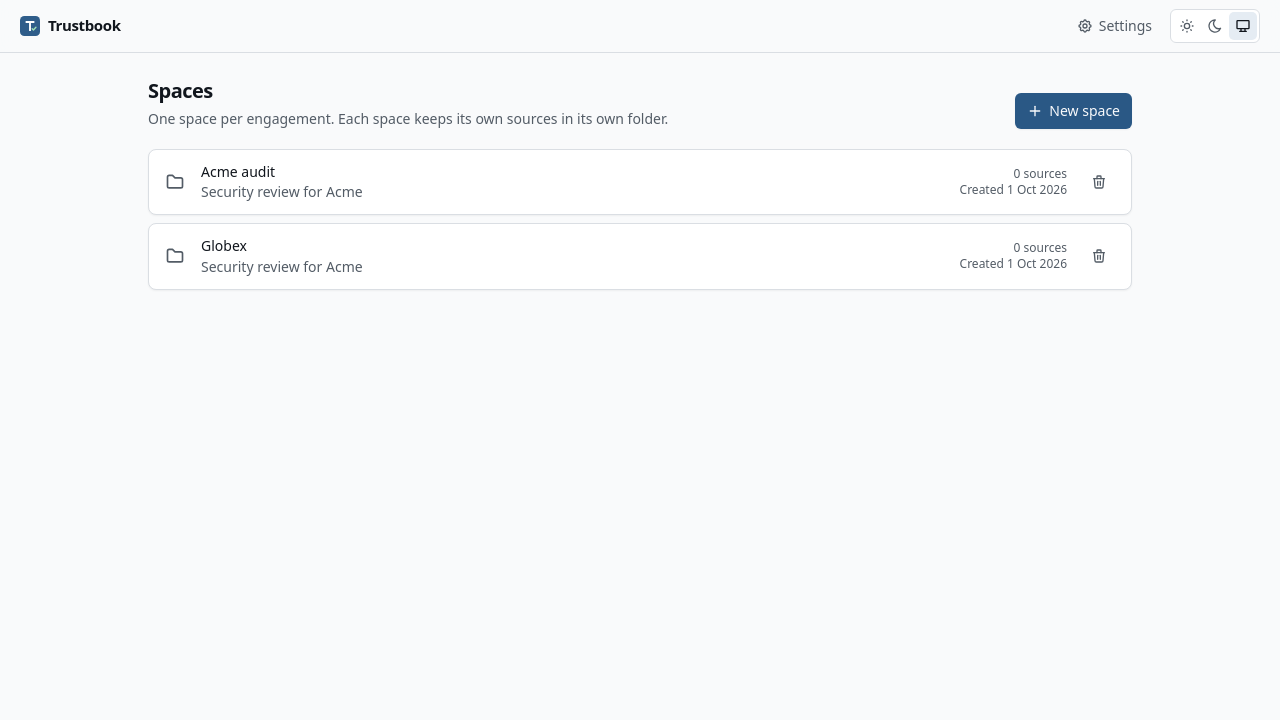
Test: spaces list › asks for confirmation, shows the folder, and only deletes on confirm
Click the button named "Delete Acme audit" at (1099, 182), box x1=1083 y1=166 x2=1115 y2=198
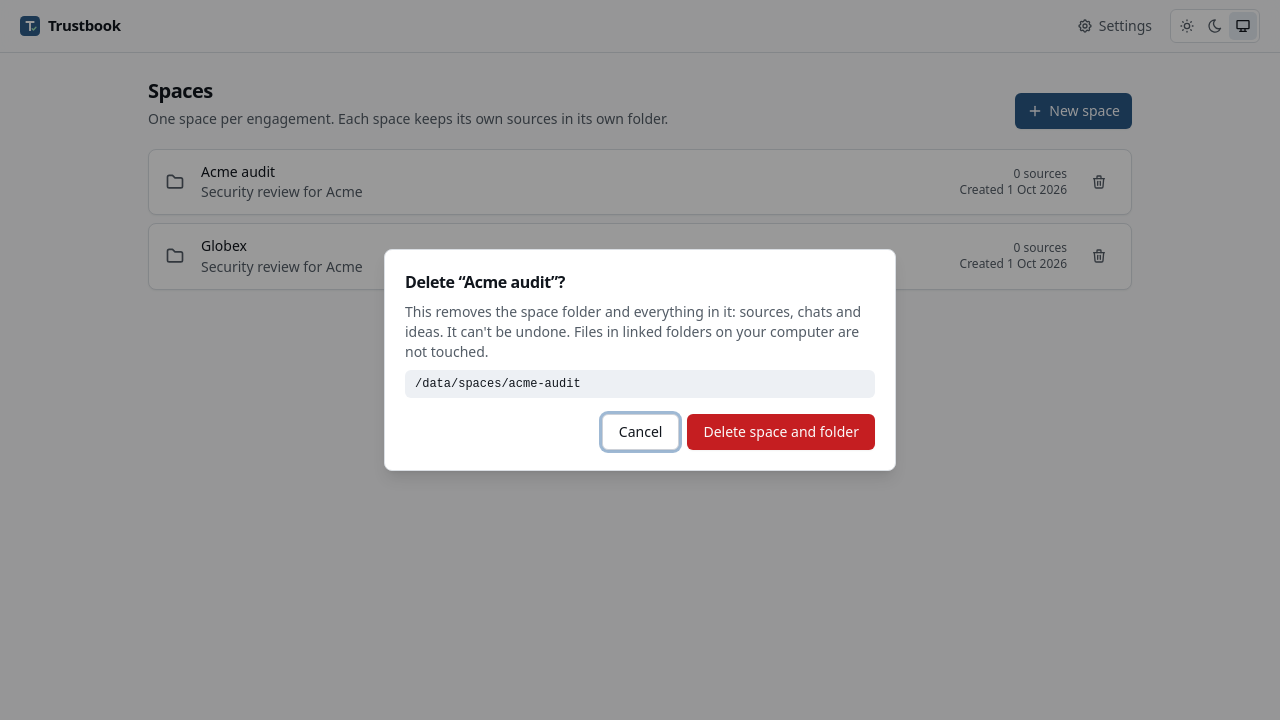
Result: the heading "Delete “Acme audit”?" is shown at x1=405 y1=271 x2=565 y2=293
Result: the text "removes the space folder and everything in it" is shown at x1=405 y1=302 x2=861 y2=361
Result: the text "/data/spaces/acme-audit" is shown at x1=405 y1=370 x2=875 y2=398
Click the button "Cancel" at (641, 432), box x1=602 y1=414 x2=679 y2=450
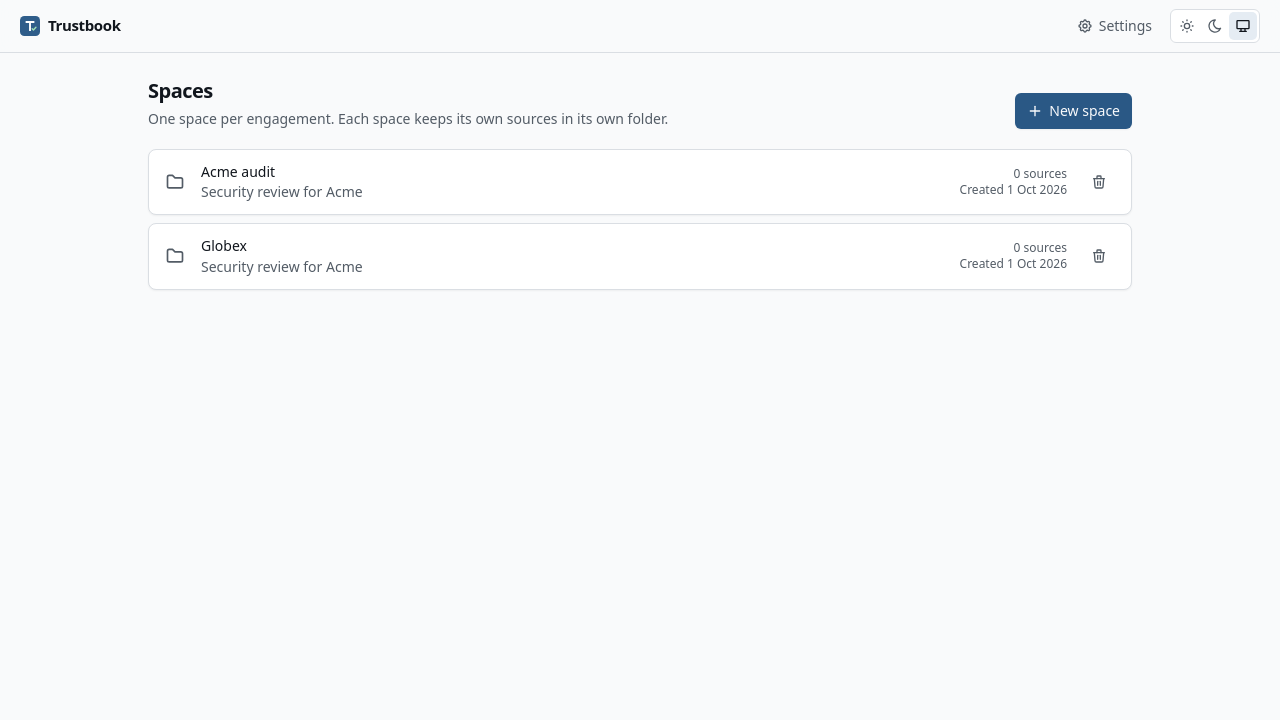
Result: the dialog is gone
Click the button named "Delete Acme audit" at (1099, 182), box x1=1083 y1=166 x2=1115 y2=198
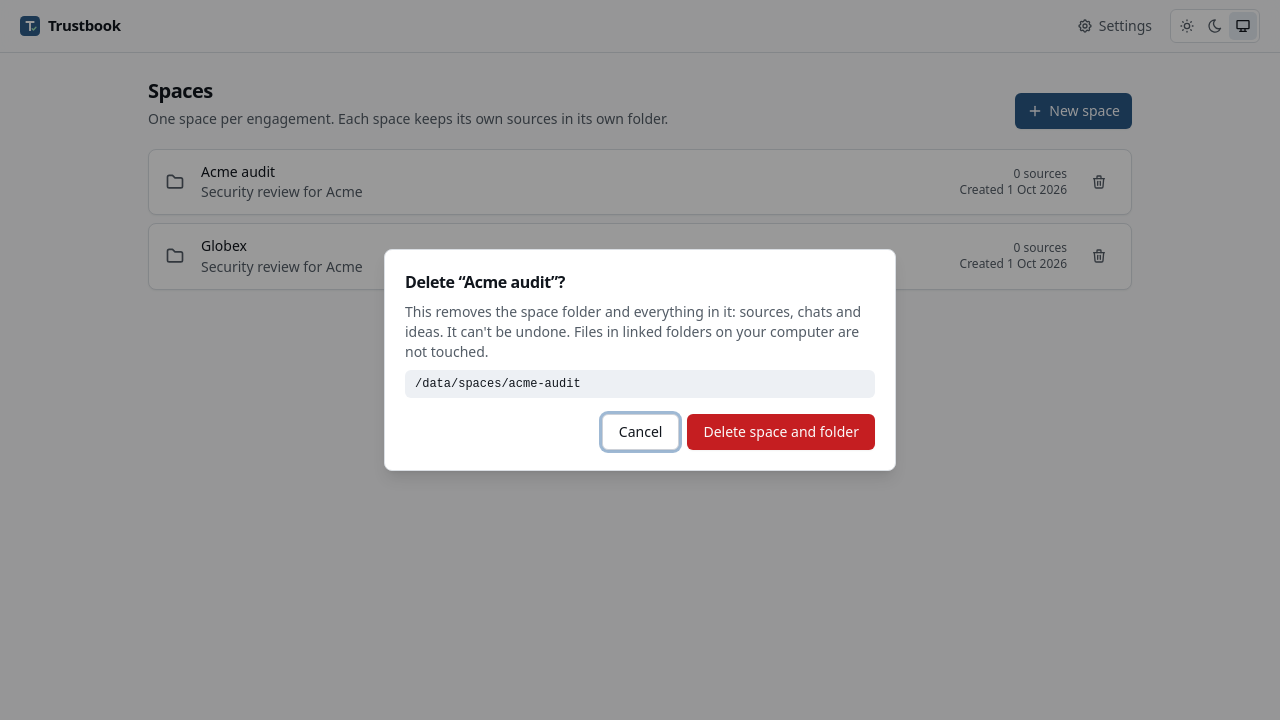
Click the button "Delete space and folder" at (781, 432), box x1=687 y1=414 x2=875 y2=450
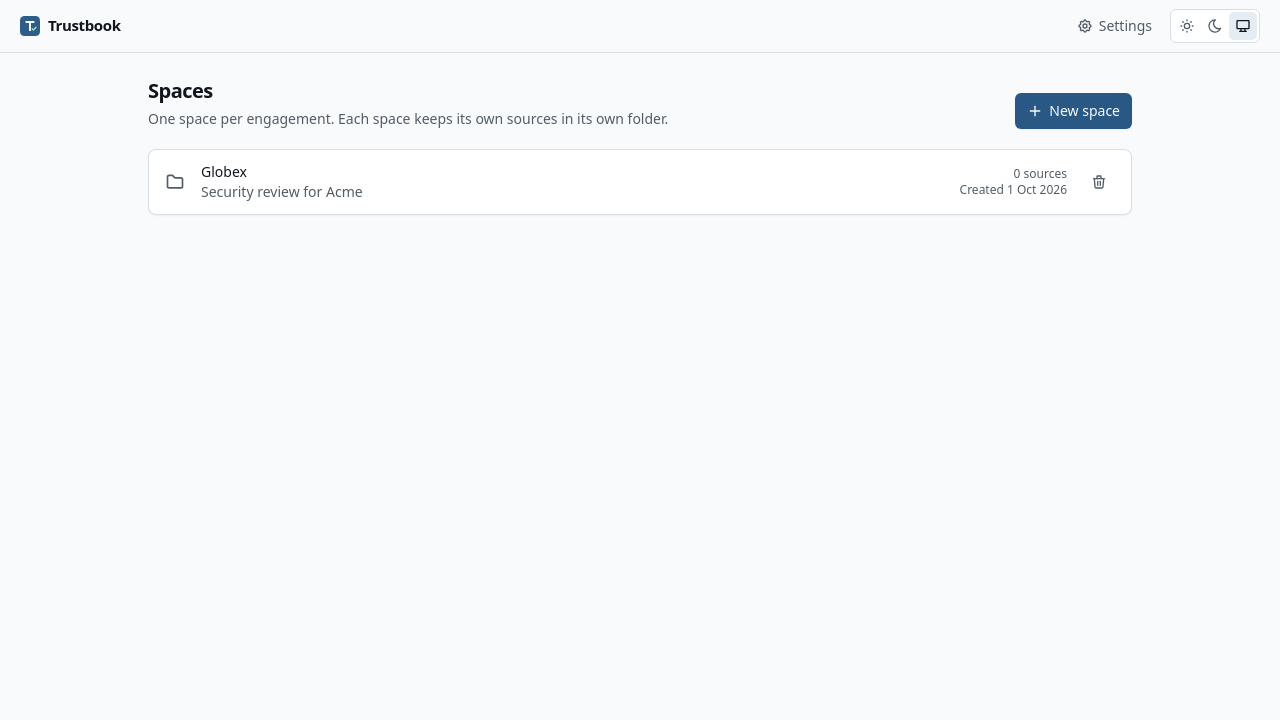
Expected: the link "Globex" is shown, x1=201 y1=162 x2=247 y2=181
Result: the dialog is gone
Result: the link "Acme audit" is gone
